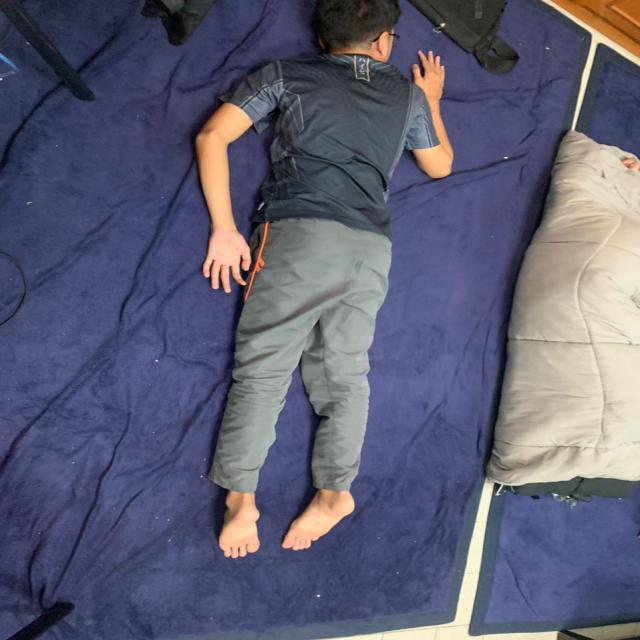Fall-Detected: (198, 0, 457, 563)
